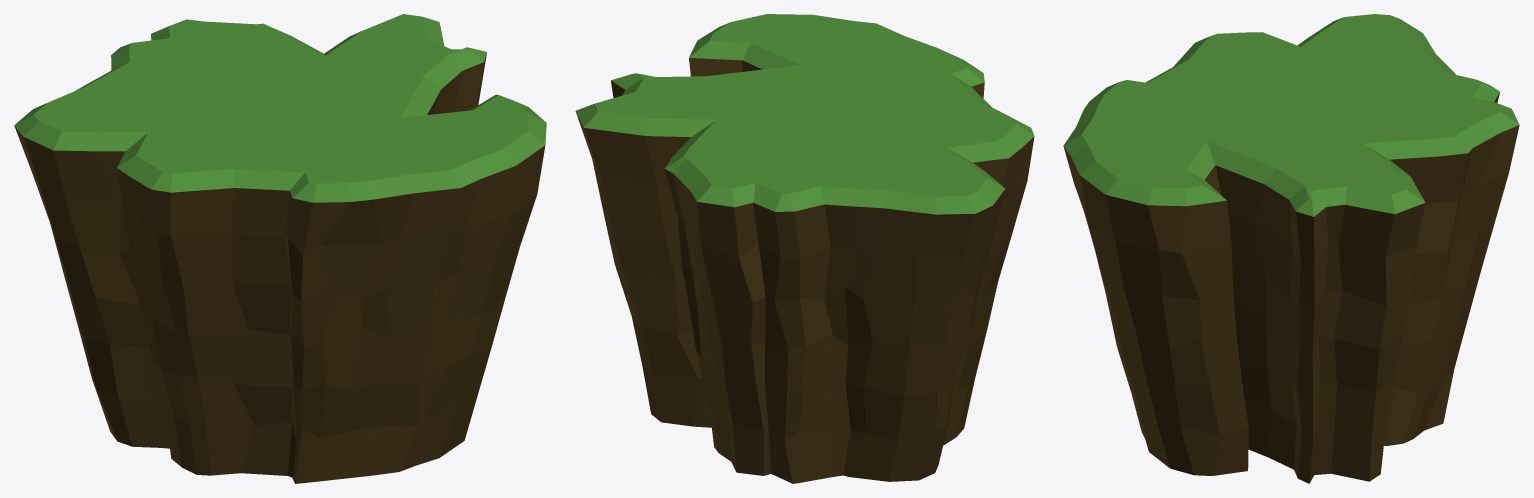
Rendered from cliff.glb.
The picture shows the model from 3 angles, left to right: view 1: azimuth 30°, elevation 25°; view 2: azimuth 150°, elevation 25°; view 3: azimuth 270°, elevation 25°; orthographic projection. The views are drawn at different scales.
Parts seen in each view (by area): view 1: Plane, highground; view 2: Plane, highground; view 3: Plane, highground.
Boxes of the visible parts, <box> form: Plane: <box>14,17,546,483</box>; highground: <box>34,14,528,183</box>; Plane: <box>575,22,1034,483</box>; highground: <box>595,14,1016,196</box>; Plane: <box>1063,15,1519,483</box>; highground: <box>1081,14,1500,196</box>.
Bounding box in the file's own units: 2.65 × 1.9 × 2.53.
Materials: 1 (1 with a texture image).
